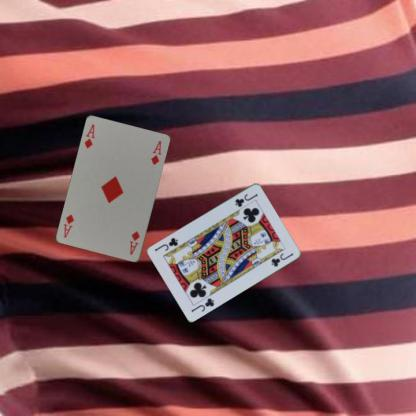Ad: (82, 122, 97, 150), (127, 228, 141, 257)
Jc: (188, 295, 216, 313), (232, 191, 259, 208)
